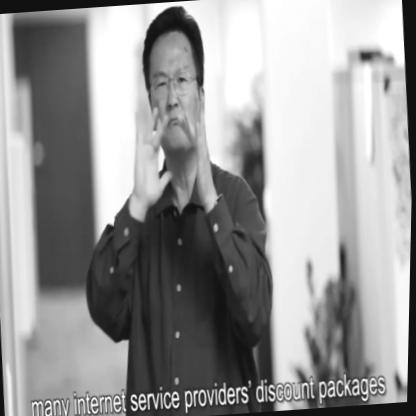Internet: (124, 76, 223, 204)
